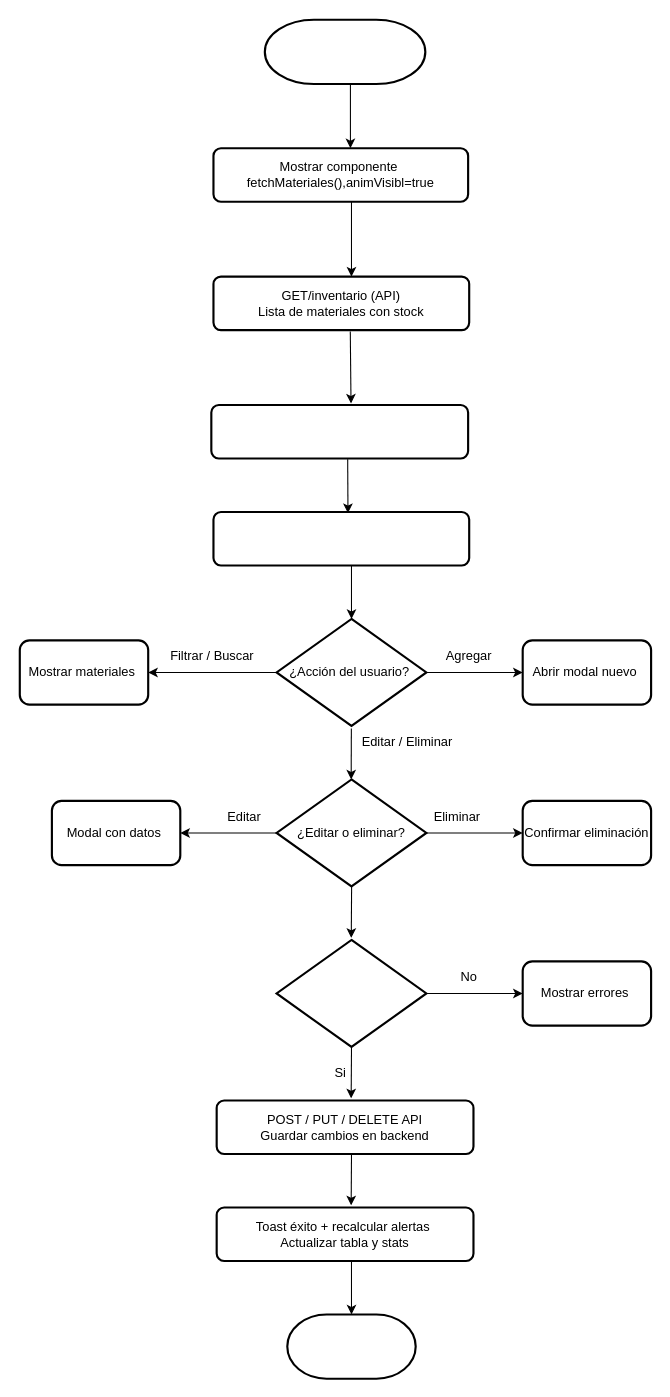
Some shapes in this 670 by 1397 pixel diagram are drawn without their labels. Here are the shapes that lost their labels. From the top down, the centre of each, then its label:
At (x=344, y=51): "INICIO".
At (x=339, y=431): "Calcular alertas de stock Critico si stock < minimo".
At (x=341, y=538): "Renderizar stats + tabla + alertas Barras de nivel animado".
At (x=351, y=993): "¿Formulario valido?".
At (x=351, y=1346): "FIN (Vista activa)".
